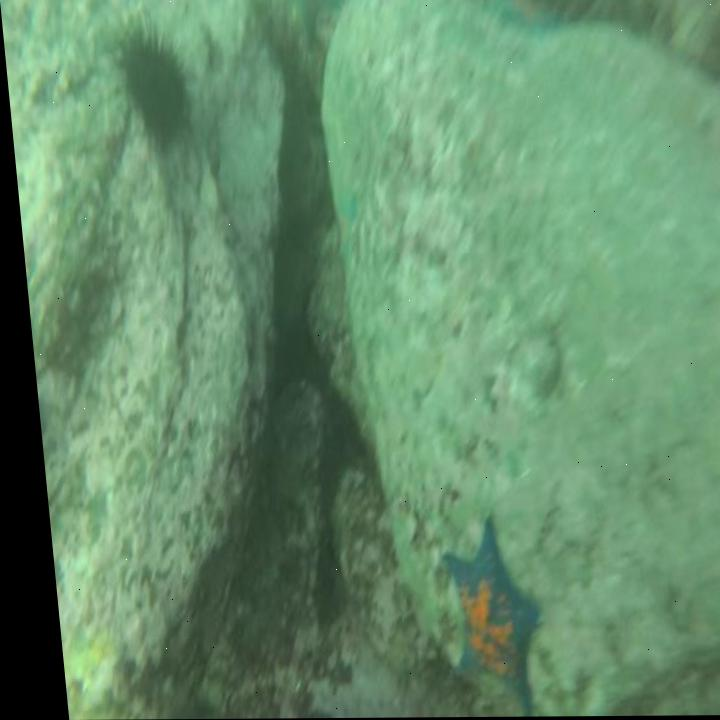echinus: (107, 13, 196, 163)
starfish: (423, 518, 541, 718)
